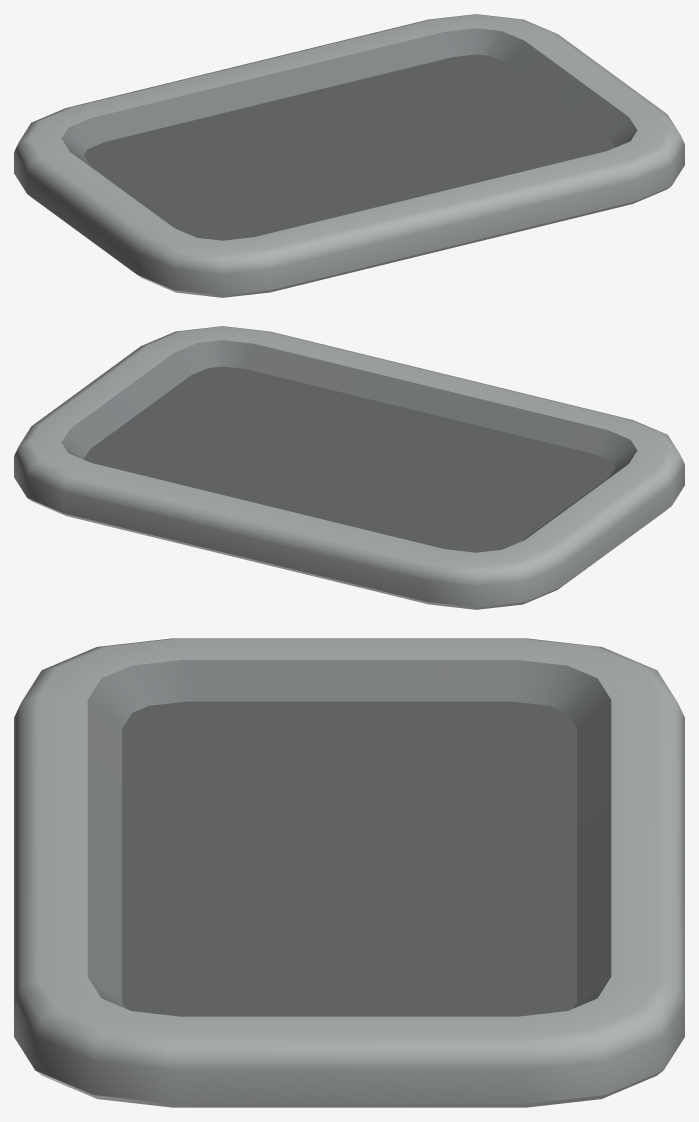
Rendered from Crate_005_001.fbx.
3 views of the same model, one above another, from view 1: azimuth 30°, elevation 25°; view 2: azimuth 150°, elevation 25°; view 3: azimuth 270°, elevation 25° (orthographic). The views are drawn at different scales.
Parts seen in each view (by area): view 1: Crate_005_001; view 2: Crate_005_001; view 3: Crate_005_001.
Part boxes in pixels (bbox=[...]): Crate_005_001: bbox=[14, 14, 684, 297]; Crate_005_001: bbox=[14, 326, 684, 609]; Crate_005_001: bbox=[14, 638, 684, 1107].
Size of the model in its own units: 70.05 by 47.38 by 4.91.
